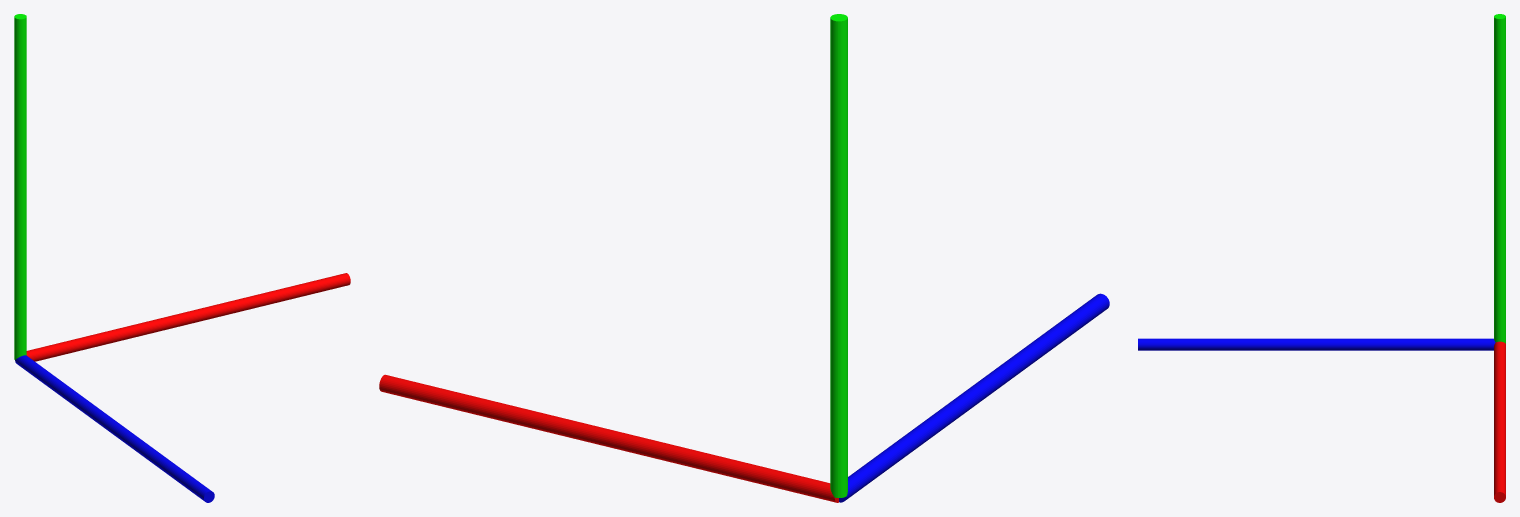
Rendered from TargetGizmo.fbx.
3 views of the same model, side by side, from view 1: azimuth 30°, elevation 25°; view 2: azimuth 150°, elevation 25°; view 3: azimuth 270°, elevation 25° (orthographic). The views are drawn at different scales.
Visible parts, largest first — view 1: 円柱, 円柱.002, 円柱.001; view 2: 円柱, 円柱.002, 円柱.001; view 3: 円柱.001, 円柱, 円柱.002.
Part boxes in pixels (x1,y1,x2,y2): 円柱: (14, 14, 26, 359); 円柱.002: (26, 273, 350, 361); 円柱.001: (15, 355, 214, 502); 円柱: (830, 14, 847, 497); 円柱.002: (379, 374, 838, 502); 円柱.001: (839, 293, 1109, 502); 円柱.001: (1138, 338, 1495, 350); 円柱: (1494, 14, 1505, 343); 円柱.002: (1494, 341, 1505, 502).
Bounding box in the file's own units: 3.05 × 3.05 × 3.05.
